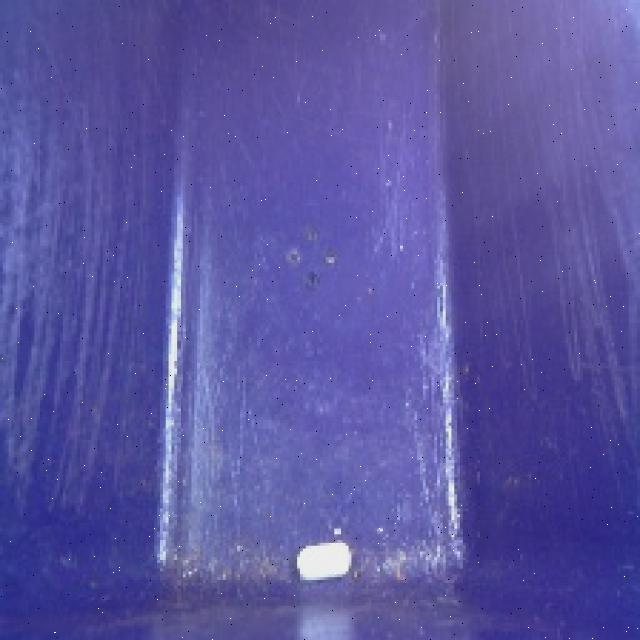small: (292, 531, 358, 586)
